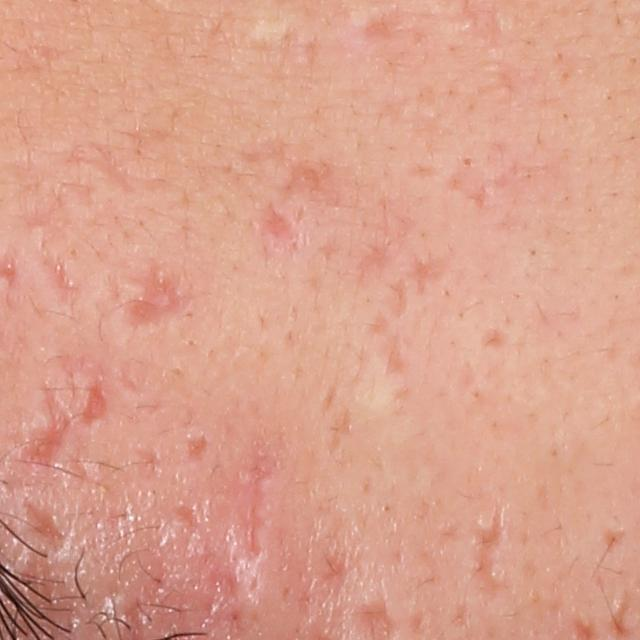atrophic_scar: (14, 386, 73, 472), (121, 261, 185, 331), (471, 498, 508, 601), (85, 142, 147, 193), (285, 161, 345, 209), (35, 246, 82, 306), (20, 501, 70, 556), (243, 451, 266, 554), (354, 236, 398, 288), (442, 167, 491, 210), (238, 131, 291, 169), (405, 251, 443, 298), (79, 374, 110, 425), (323, 407, 352, 455), (361, 9, 402, 40), (381, 333, 406, 379), (183, 431, 213, 463), (171, 505, 203, 534), (388, 279, 410, 320), (601, 523, 628, 555), (320, 377, 339, 416), (365, 309, 389, 335)
comedo: (457, 153, 480, 171)
hypertrophic_scar: (229, 553, 288, 625), (115, 280, 152, 301), (475, 512, 497, 531)
